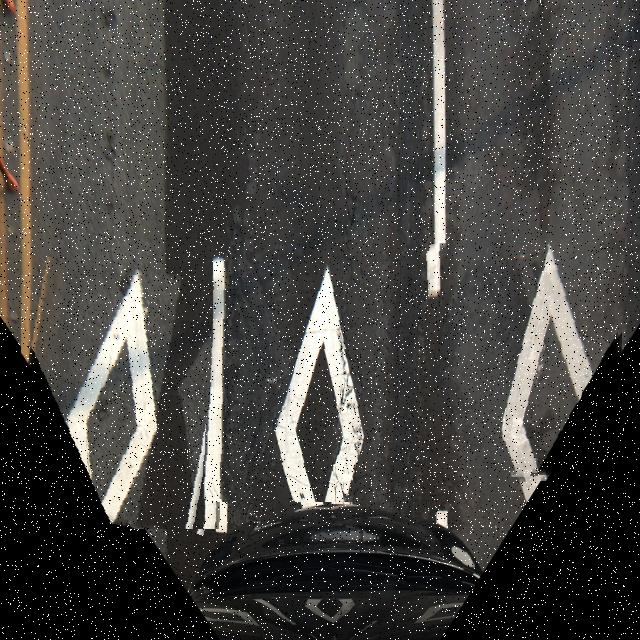diamond: (214, 251, 446, 502), (21, 263, 231, 529), (432, 238, 626, 484)
